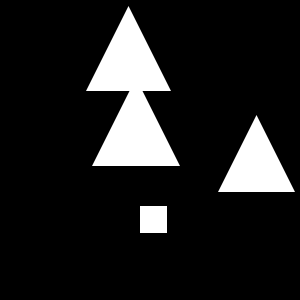circle: (140, 206, 167, 233)
triangle: (92, 78, 180, 166), (86, 6, 171, 91), (218, 115, 295, 192)
